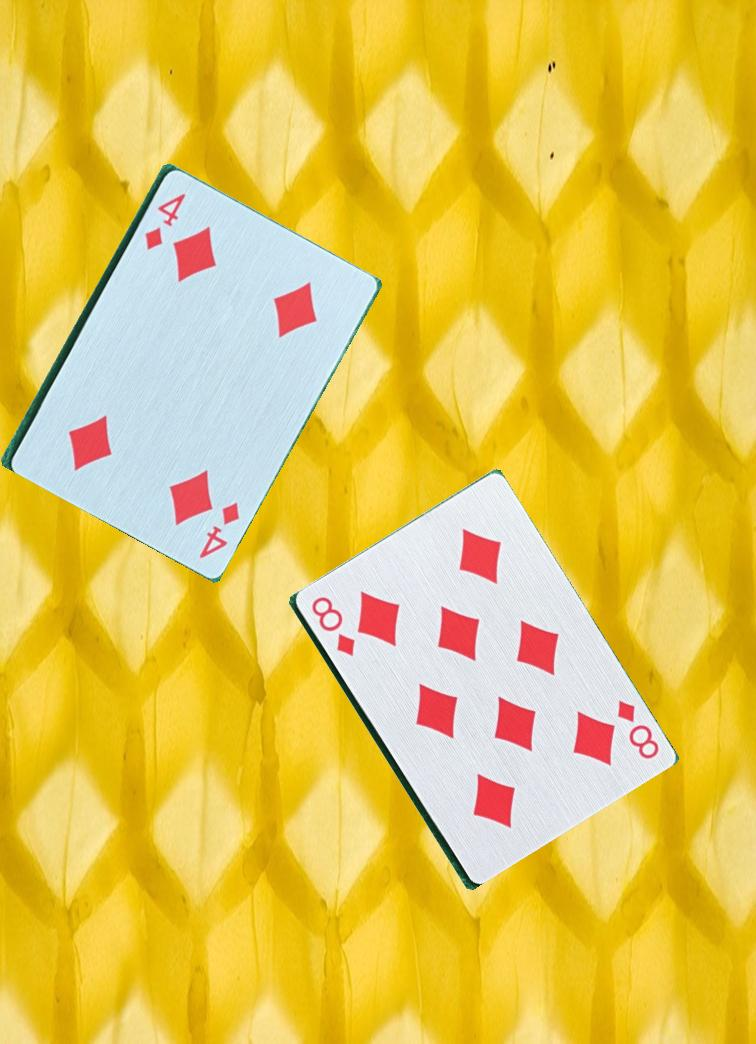4d: (140, 188, 189, 253), (195, 497, 244, 561)
8d: (300, 591, 357, 659), (612, 696, 662, 762)
